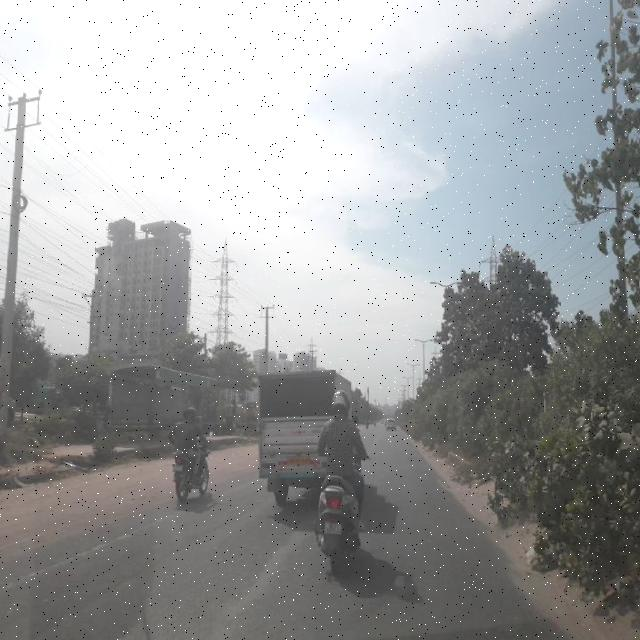D20: (77, 536, 539, 620)
D44: (0, 508, 169, 592)
